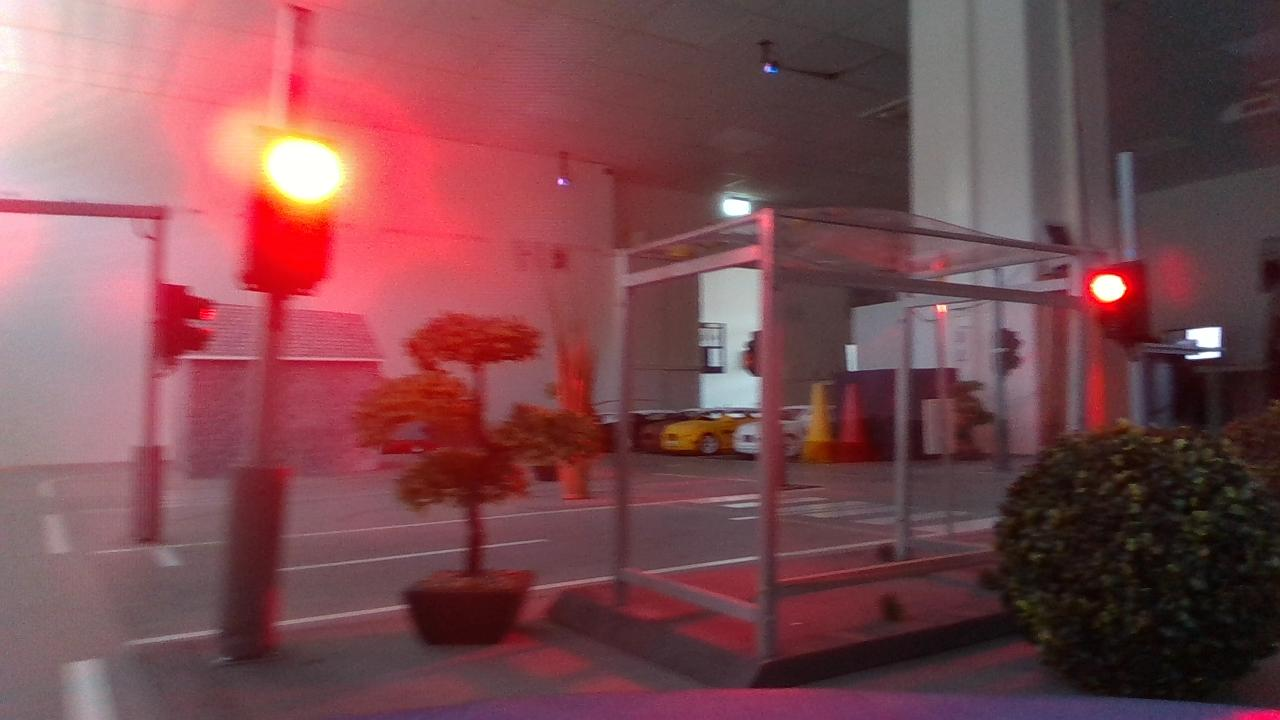traffic_light_red: (214, 101, 363, 305)
